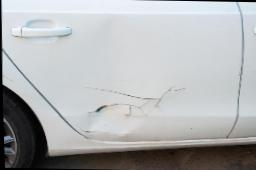Door: (43, 58, 229, 166)
